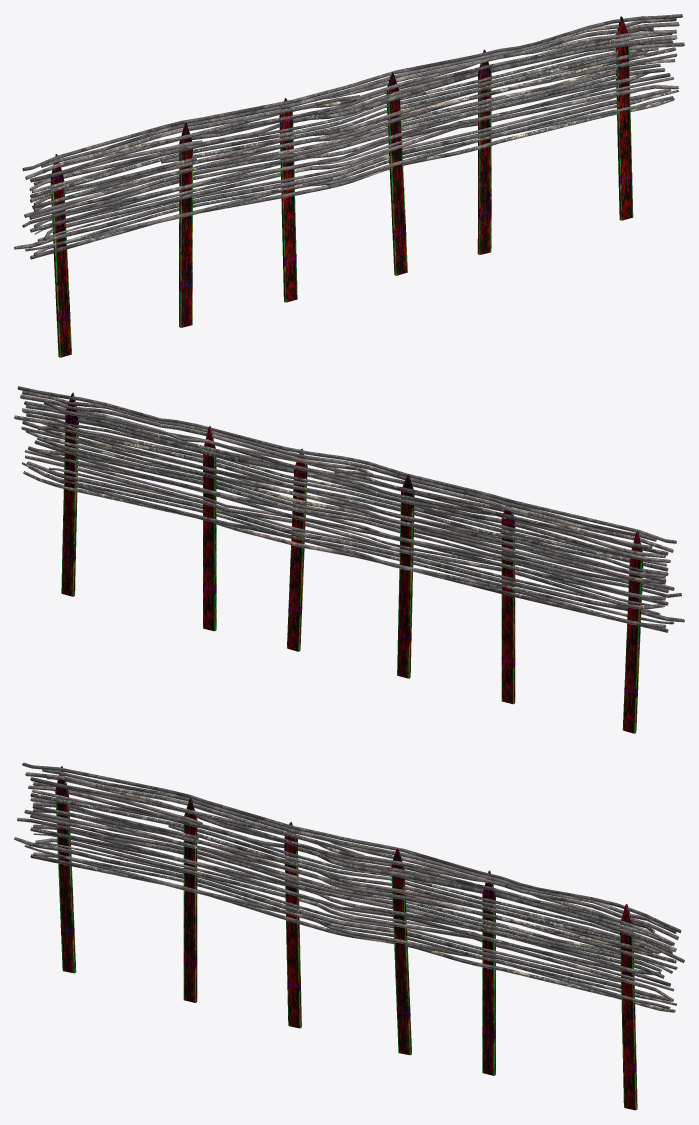
Rendered from SM_SmallCabin_TwigWall.fbx.
3 renders of one model, top to bottom at view 1: azimuth 30°, elevation 25°; view 2: azimuth 150°, elevation 25°; view 3: azimuth 330°, elevation 25°, orthographic.
Parts seen in each view (by area): view 1: SM_SmallCabin_TwigWall; view 2: SM_SmallCabin_TwigWall; view 3: SM_SmallCabin_TwigWall.
Boxes of the visible parts, <box> form: SM_SmallCabin_TwigWall: <box>14,14,684,357</box>; SM_SmallCabin_TwigWall: <box>14,386,684,733</box>; SM_SmallCabin_TwigWall: <box>14,762,684,1110</box>.
Bounding box in the file's own units: 641 × 23.95 × 188.
